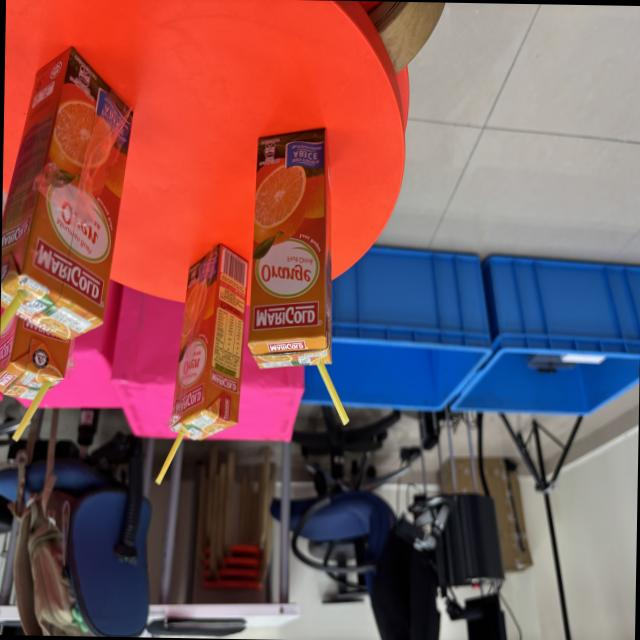drink_carton: (0, 47, 145, 350), (237, 108, 363, 440), (141, 240, 251, 494), (0, 300, 77, 445)
